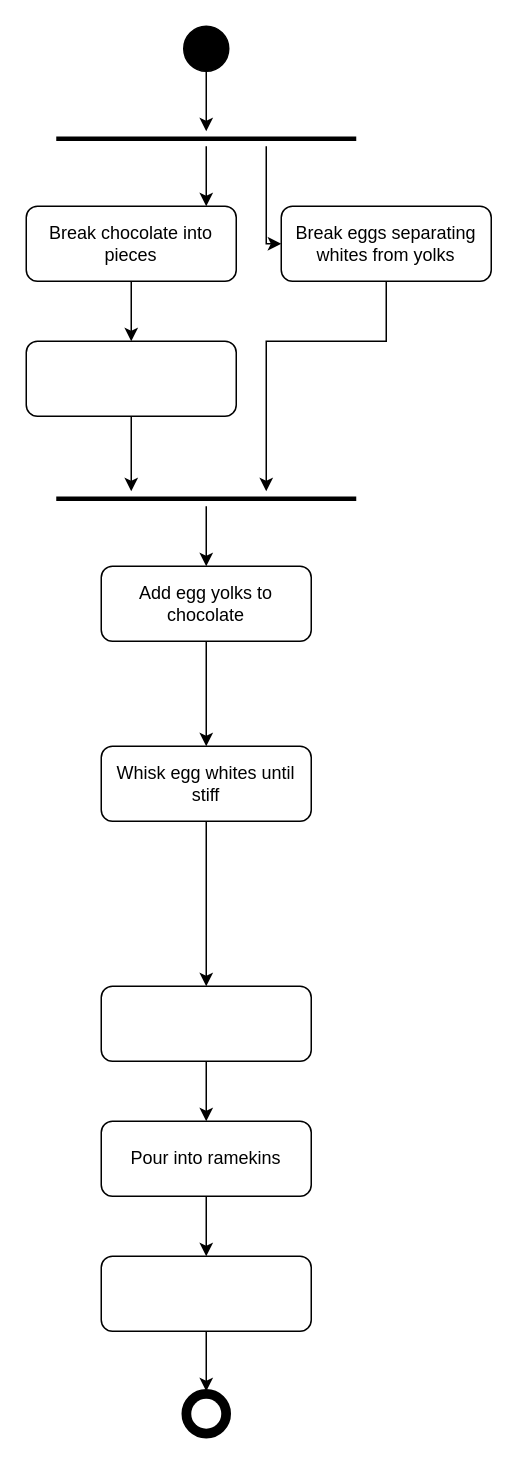
This 518x1464 diagram has some shape labels left out. The centre of each missing label's shape, as x and y in pixels:
"Chill for at least 3 hours" goes at point 205,1293.
"Fold egg whites into chocolate mixture" goes at point 205,1023.
"Melt chocolate" goes at point 130,378.
